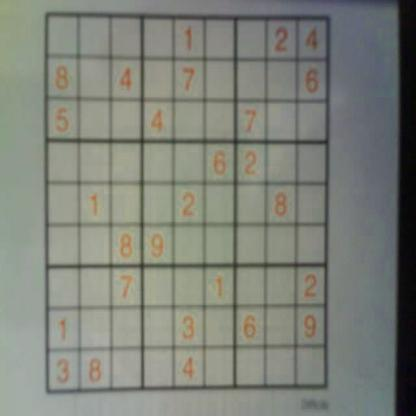sudoku: (40, 7, 335, 398)
